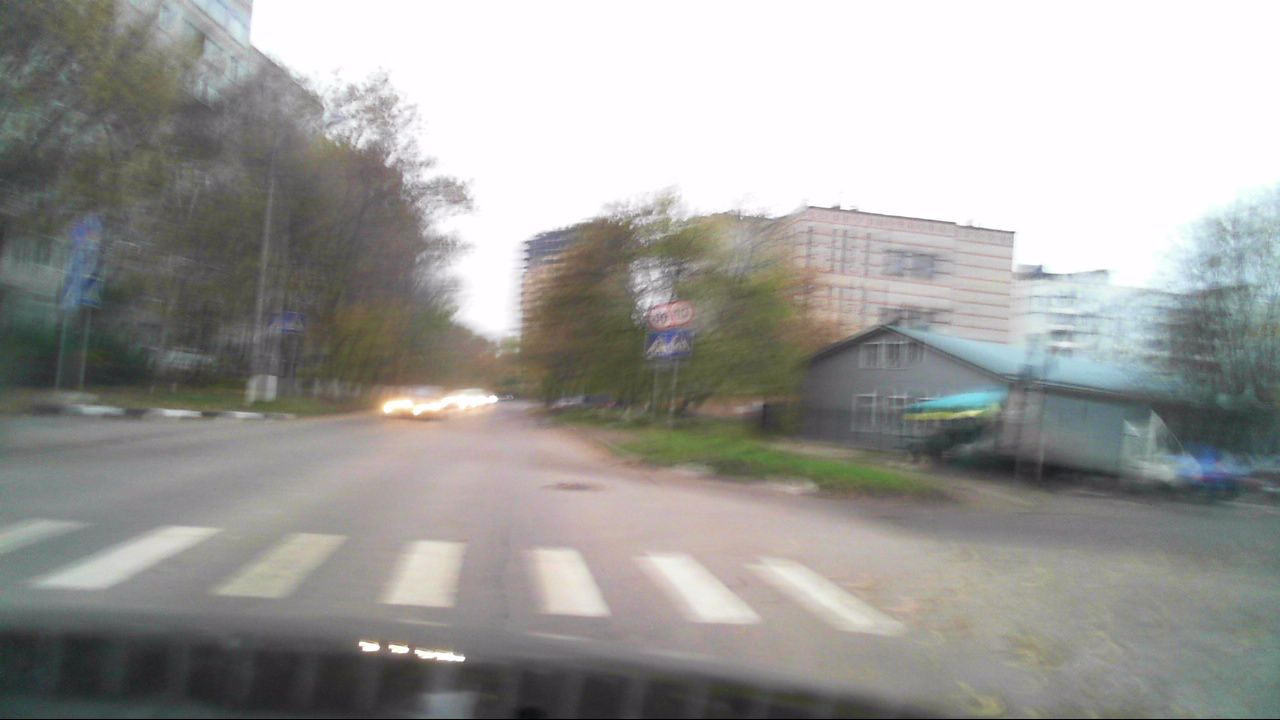speed_warning_40: (668, 298, 693, 324)
